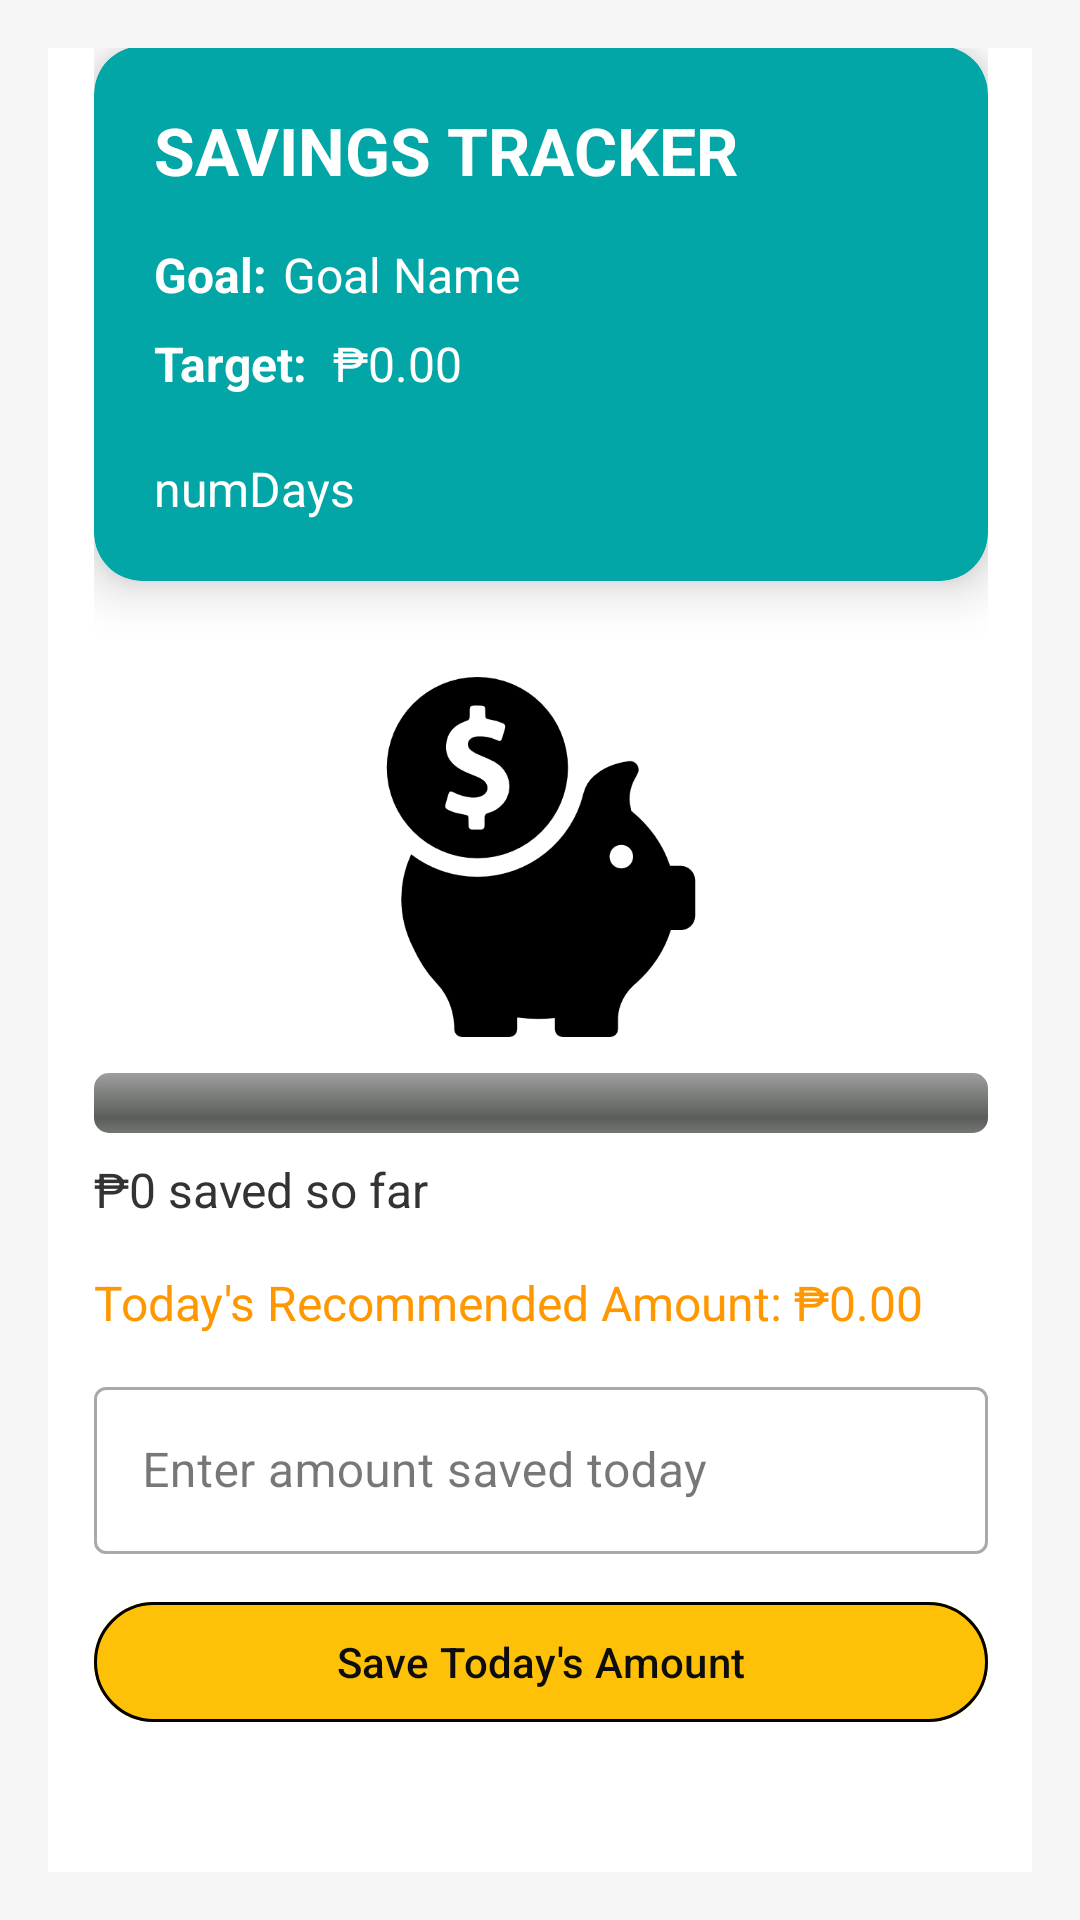

Named icons in this screenshot (1080 × 1920) and their centers, (x,y):
Piggy Bank: (541,857)
